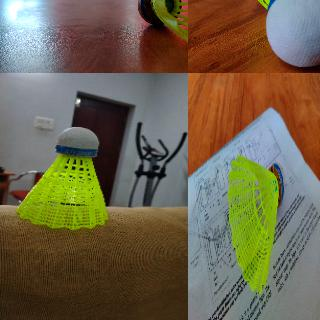shuttlecock: (15, 127, 109, 229), (227, 152, 285, 292), (240, 0, 319, 69), (137, 0, 187, 62)
